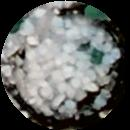Nothing: (0, 0, 130, 130)
